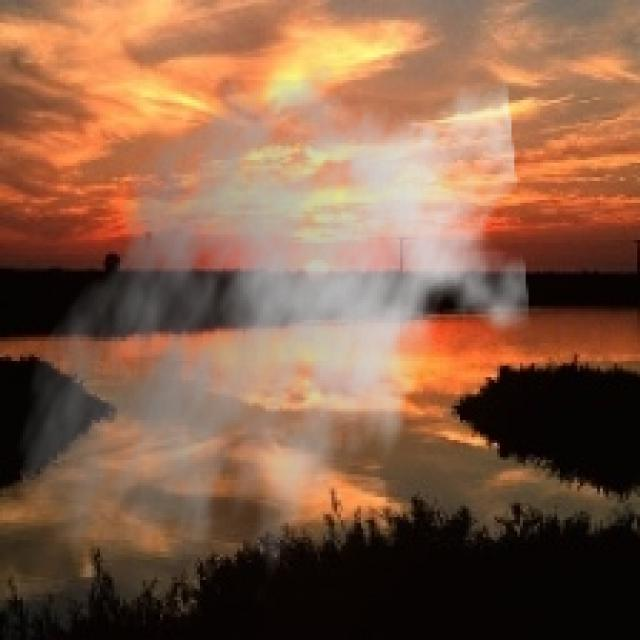smoke: (14, 43, 532, 611)
